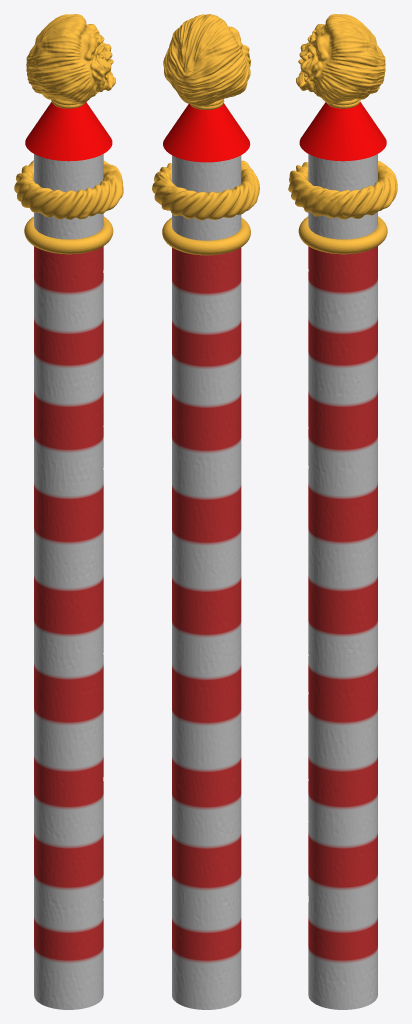
File: VEN_Stock_02_LOD1.glb
The picture shows the model from 3 angles, left to right: view 1: azimuth 90°, elevation 25°; view 2: azimuth 150°, elevation 25°; view 3: azimuth 270°, elevation 25°; orthographic projection.
Parts seen in each view (by area): view 1: Cylinder, Zardoz, Cone, Torus 1, Torus; view 2: Cylinder, Zardoz, Cone, Torus 1, Torus; view 3: Cylinder, Zardoz, Cone, Torus 1, Torus.
Boxes of the visible parts, <box> form: Cylinder: <box>34,154,103,1009</box>; Zardoz: <box>26,14,115,104</box>; Cone: <box>25,102,112,161</box>; Torus 1: <box>14,160,123,219</box>; Torus: <box>24,216,113,254</box>; Cylinder: <box>172,155,241,1009</box>; Zardoz: <box>163,14,250,106</box>; Cone: <box>163,103,250,162</box>; Torus 1: <box>152,160,259,220</box>; Torus: <box>162,217,250,255</box>; Cylinder: <box>308,154,377,1009</box>; Zardoz: <box>296,14,385,104</box>; Cone: <box>299,102,386,161</box>; Torus 1: <box>288,161,397,219</box>; Torus: <box>298,216,387,254</box>.
Size of the model in its own units: 0.5082 by 5.08 by 0.5146.
